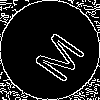M: (25, 25, 87, 85)
